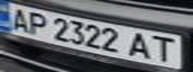2: (45, 15, 72, 43), (100, 25, 124, 55), (81, 21, 103, 52)
3: (66, 18, 87, 46)
A: (127, 29, 157, 61), (3, 4, 33, 33)
P: (24, 10, 51, 36)
T: (148, 34, 181, 64)
